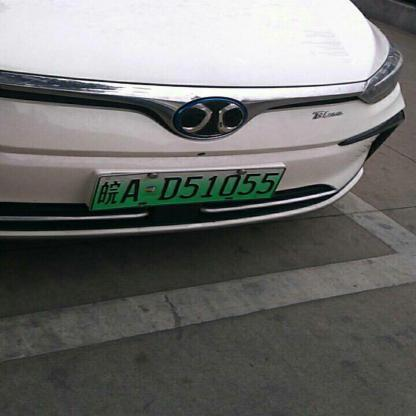lp: (92, 168, 286, 209)
